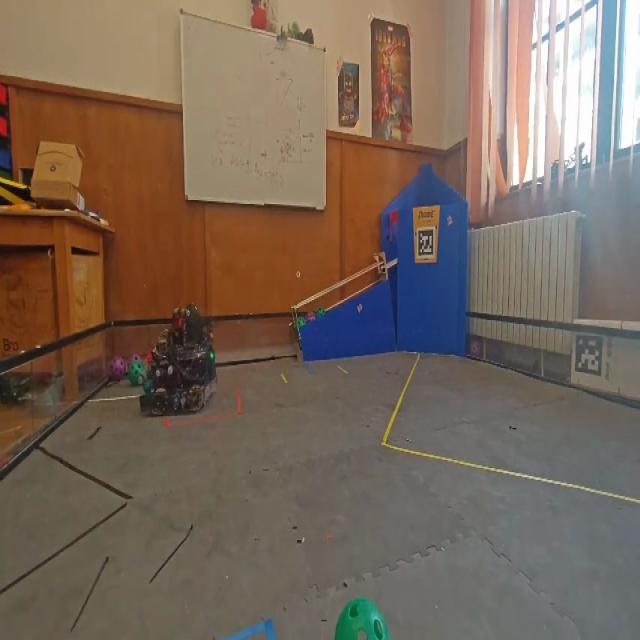artifact_green: (335, 599, 389, 639), (128, 362, 146, 386), (206, 350, 215, 373), (143, 378, 153, 394), (306, 311, 316, 323), (297, 316, 306, 329), (316, 307, 325, 317), (210, 351, 215, 362)
artifact_purple: (110, 356, 127, 381), (470, 339, 481, 357), (129, 354, 143, 366), (306, 311, 316, 322)
